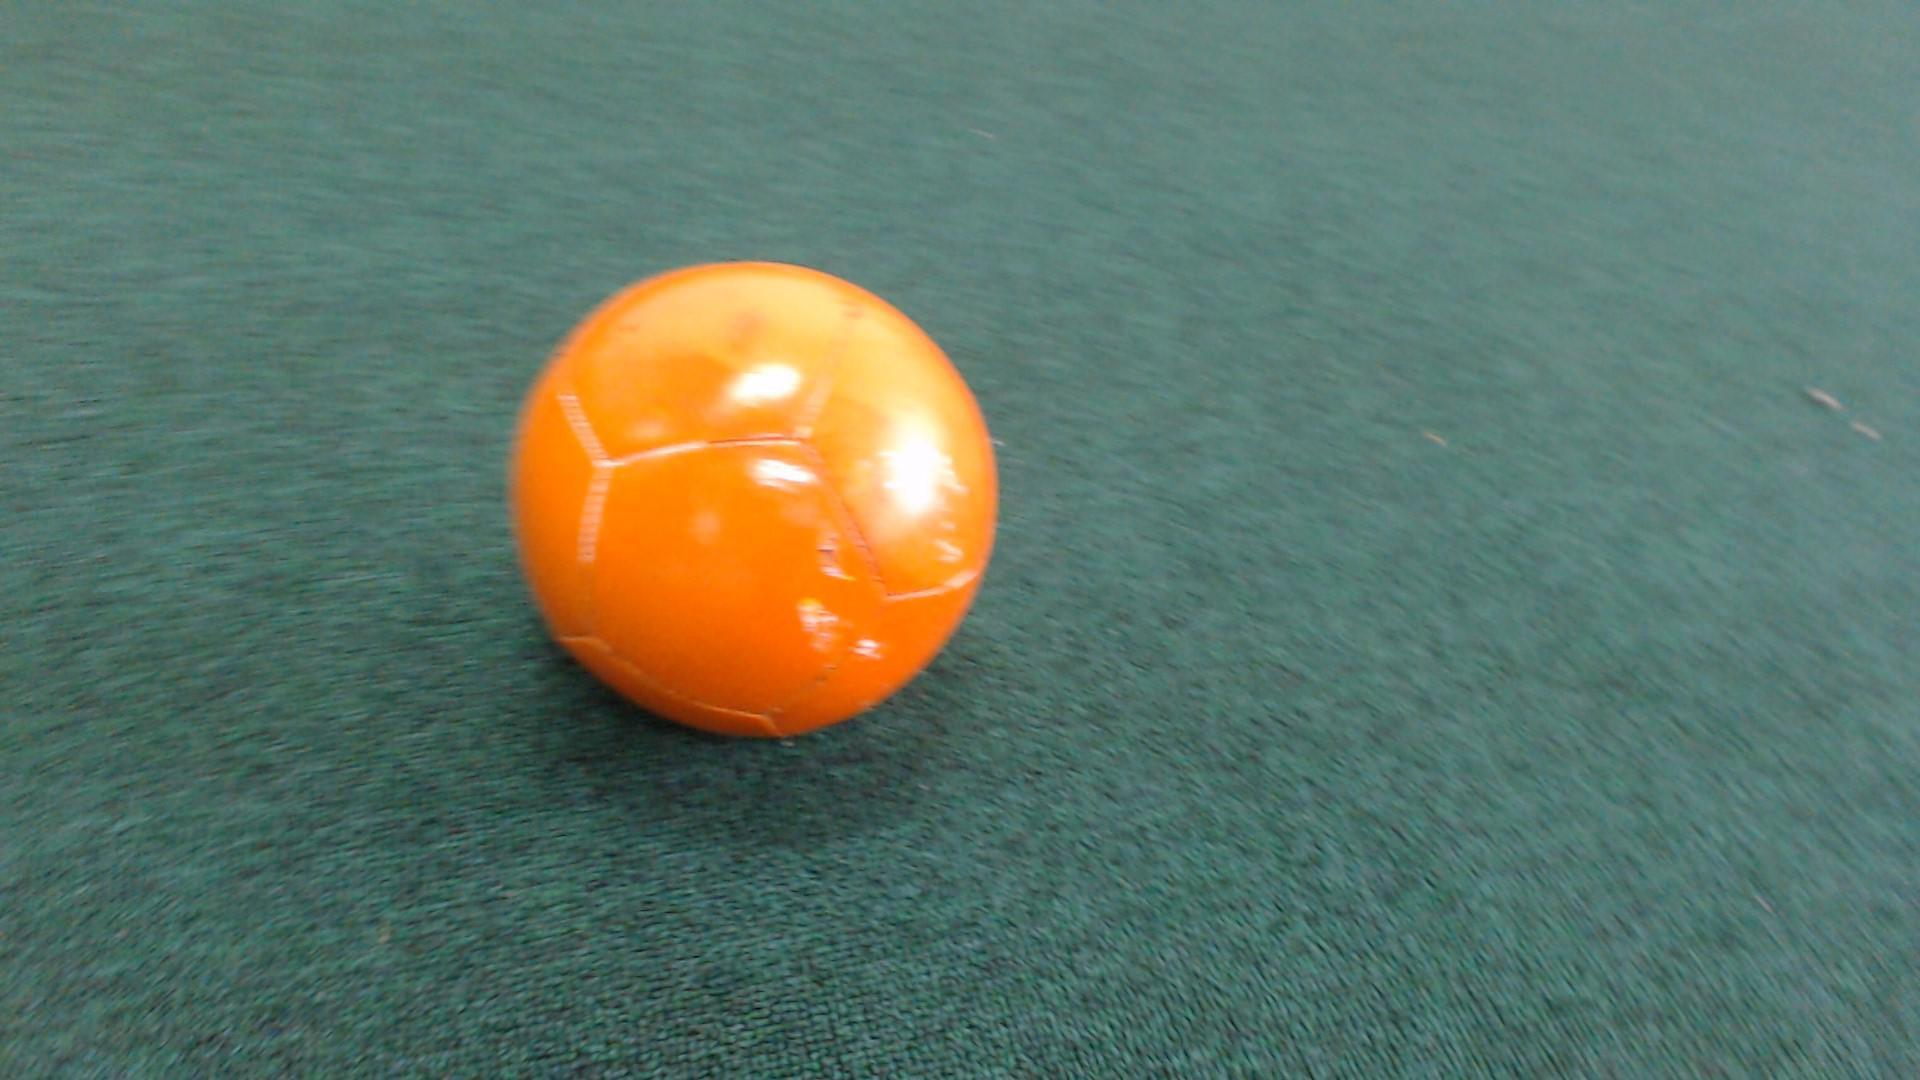bola: (481, 236, 1059, 753)
